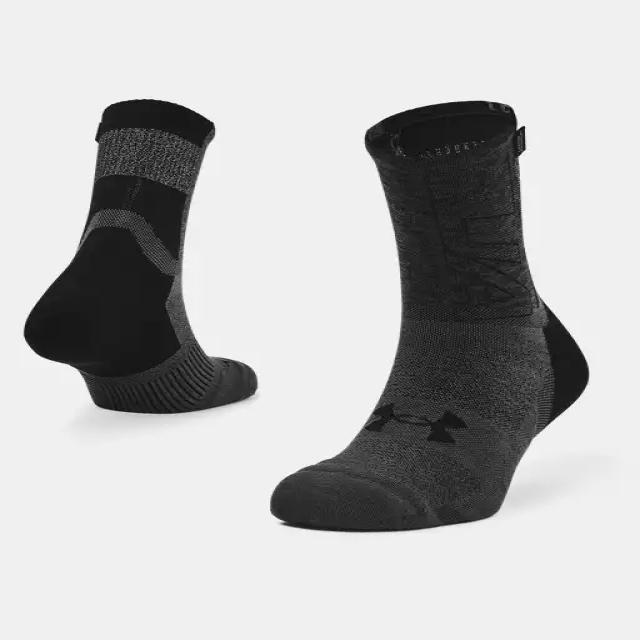sock: (269, 99, 589, 531), (22, 97, 258, 413)
